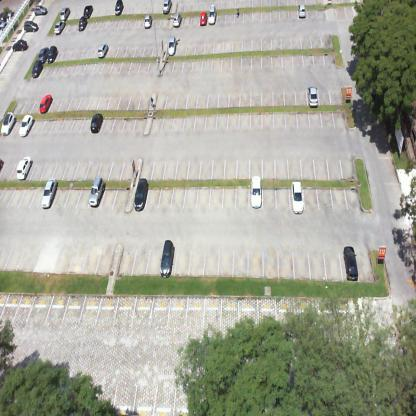car: (40, 176, 58, 209), (340, 241, 356, 278), (88, 174, 105, 208), (160, 241, 177, 274), (133, 177, 146, 212), (0, 109, 16, 137), (288, 180, 304, 207), (16, 154, 32, 181), (90, 106, 106, 132), (18, 113, 34, 139), (249, 179, 261, 209), (38, 92, 53, 115), (306, 84, 319, 107), (47, 44, 58, 66), (208, 2, 218, 25), (167, 34, 177, 56), (23, 20, 39, 33), (12, 39, 28, 52), (96, 41, 108, 58), (31, 60, 42, 78), (38, 46, 49, 64), (160, 0, 173, 15), (53, 20, 66, 35), (58, 5, 70, 20), (33, 4, 48, 16), (77, 16, 87, 32), (83, 3, 93, 19), (144, 12, 152, 31), (114, 0, 124, 15), (298, 2, 306, 20), (173, 11, 181, 28), (199, 11, 208, 26)
